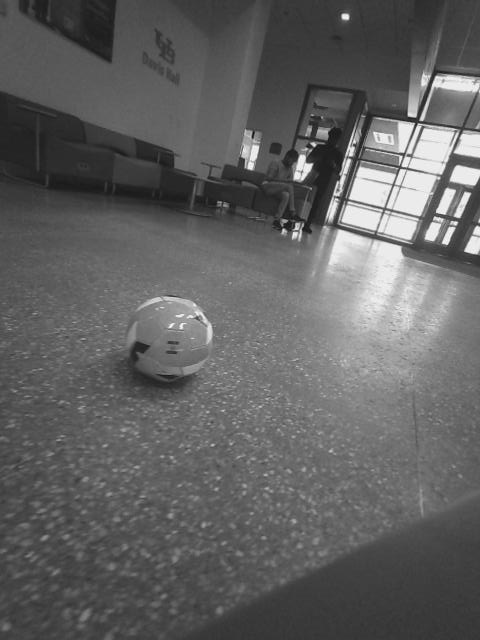ball: (117, 336, 149, 365)
